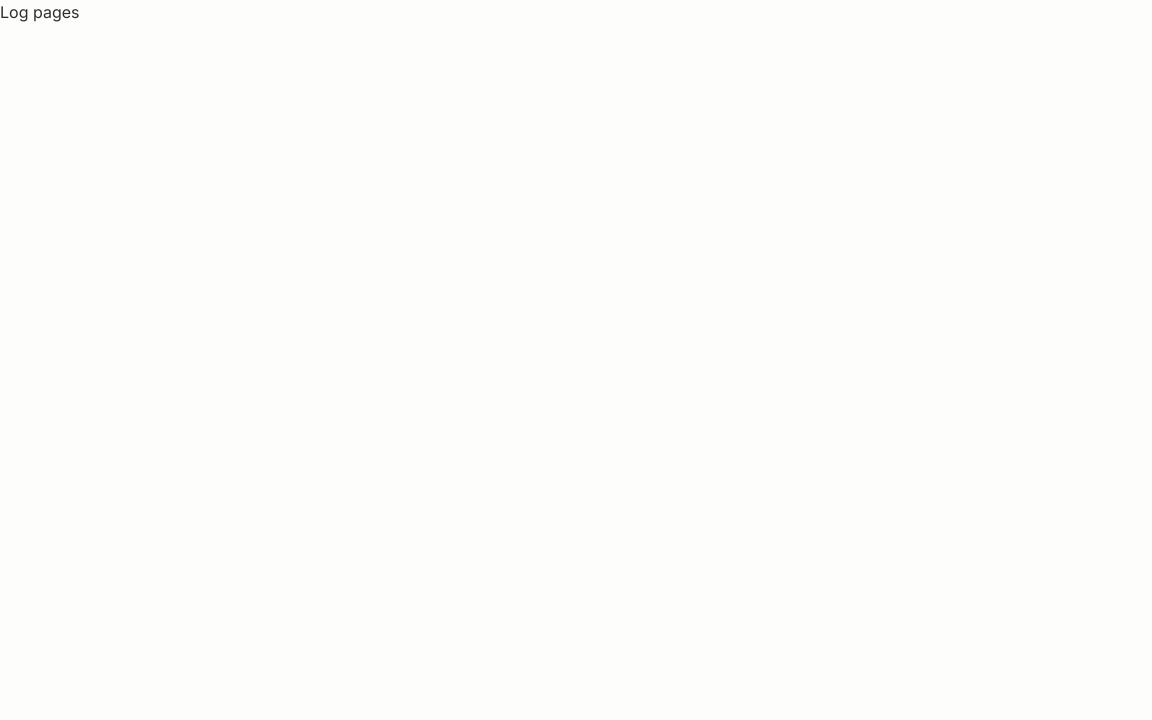
Test: HabitQuantityPopover › keeps an anchored Popover on desktop viewports
This screenshot has width=1152, height=720.
Click the button "Log pages": (40, 12) [0,0,80,24]
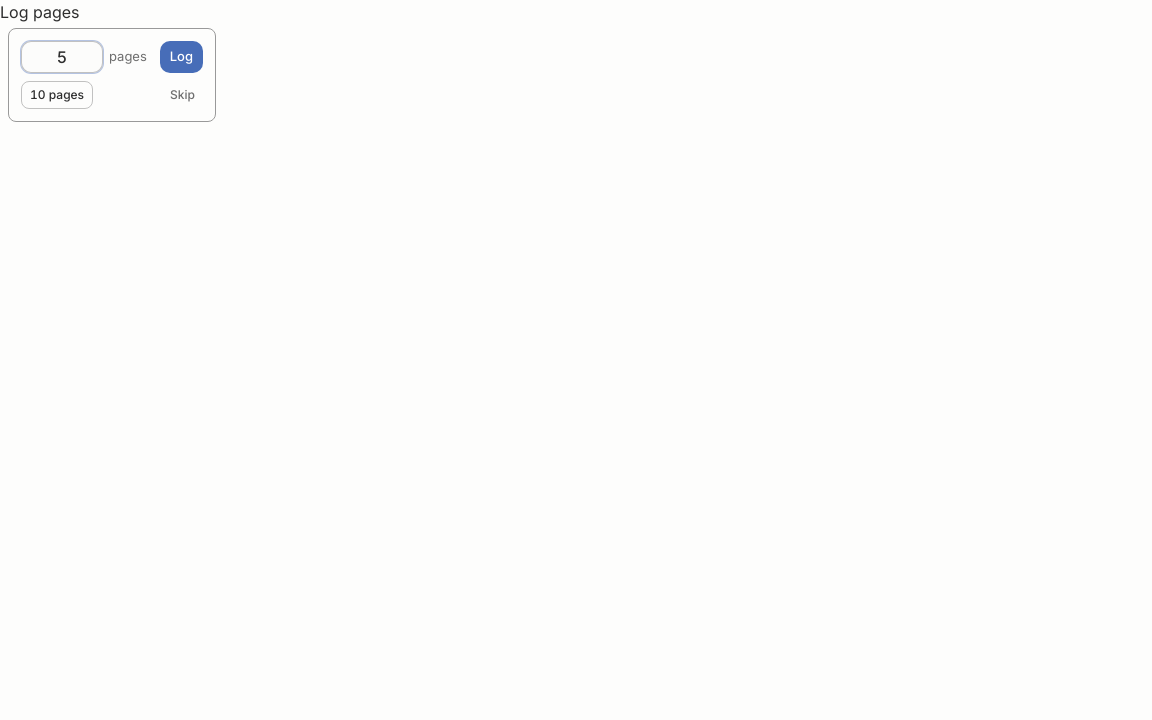
Now the element showing "pages Log 10 pages Skip" is shown, box [8,28,216,122]
